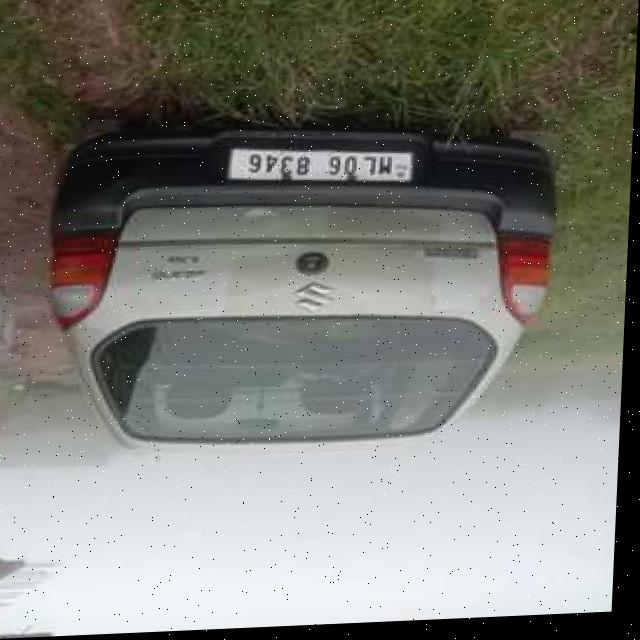plate: (229, 145, 417, 193)
